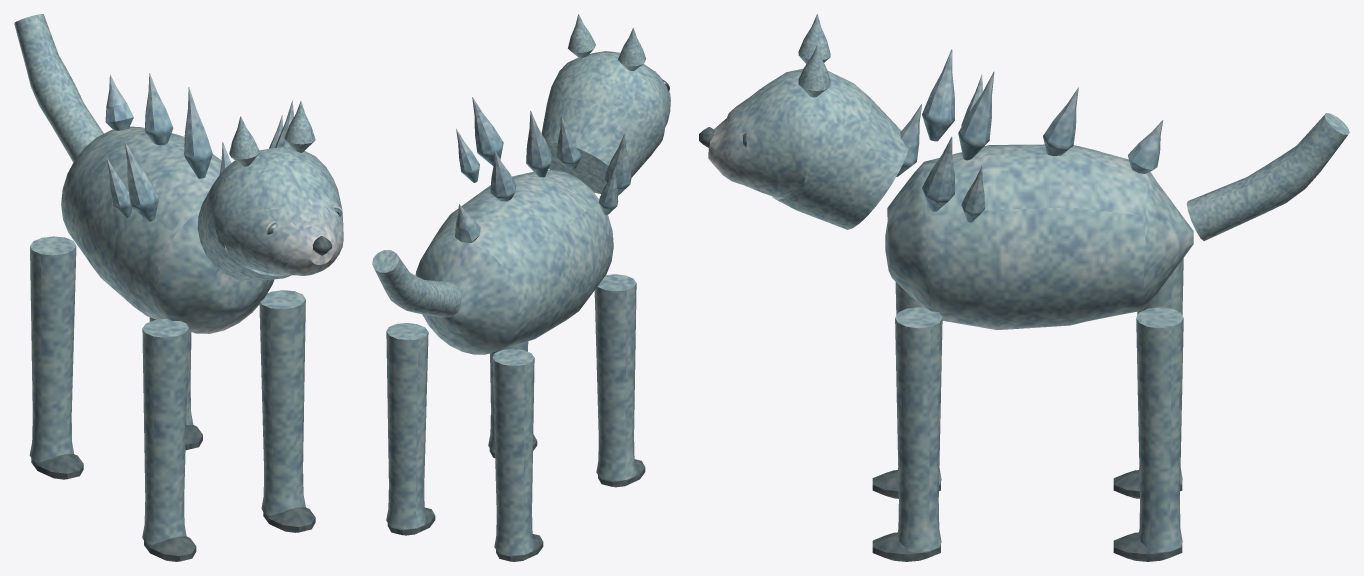
The model's file is sp_yukiookami-g6szynq9.glb.
3 renders of one model, left to right at view 1: azimuth 30°, elevation 25°; view 2: azimuth 150°, elevation 25°; view 3: azimuth 270°, elevation 25°, orthographic. The views are drawn at different scales.
Visible parts, largest first — view 1: Legs, Body, HeadMesh, TailMesh, IceMane, ShoulderShards, HeadExtras; view 2: Legs, Body, HeadMesh, IceMane, TailMesh, ShoulderShards, HeadExtras; view 3: Body, Legs, HeadMesh, TailMesh, IceMane, ShoulderShards, HeadExtras.
Part boxes in pixels (bbox=[...]): Legs: bbox=[29, 236, 315, 561]; Body: bbox=[61, 126, 274, 333]; HeadMesh: bbox=[197, 146, 343, 281]; TailMesh: bbox=[14, 14, 103, 162]; IceMane: bbox=[105, 73, 231, 178]; ShoulderShards: bbox=[106, 100, 293, 221]; HeadExtras: bbox=[229, 101, 315, 166]; Legs: bbox=[386, 274, 645, 561]; Body: bbox=[415, 169, 613, 354]; HeadMesh: bbox=[541, 51, 670, 193]; IceMane: bbox=[455, 110, 581, 243]; TailMesh: bbox=[372, 250, 461, 317]; ShoulderShards: bbox=[456, 97, 631, 214]; HeadExtras: bbox=[568, 14, 645, 70]; Body: bbox=[885, 144, 1193, 329]; Legs: bbox=[872, 258, 1183, 561]; HeadMesh: bbox=[699, 68, 908, 229]; TailMesh: bbox=[1186, 113, 1349, 240]; IceMane: bbox=[896, 71, 1163, 176]; ShoulderShards: bbox=[922, 49, 984, 222]; HeadExtras: bbox=[798, 14, 830, 97].
Size of the model in its own units: 0.3608 by 0.9157 by 1.08.
Materials: 1 (1 with a texture image).
